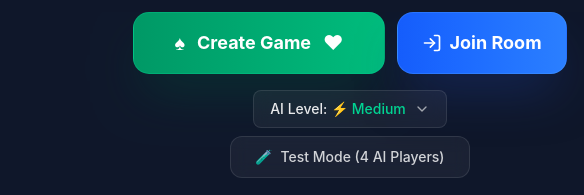
it: CreateGameSection Component › Join Room Functionality › closes input when Escape key is pressed
The width and height of the screenshot is (584, 195).
Click the button "Join Room" at (482, 43), box [397, 12, 567, 74]
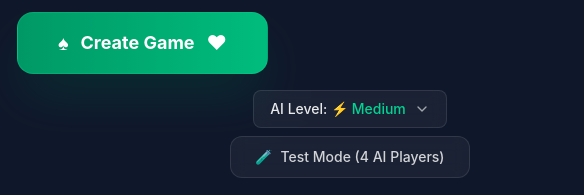
Press Escape in the field with placeholder "Enter room code", box [17, 12, 268, 74]
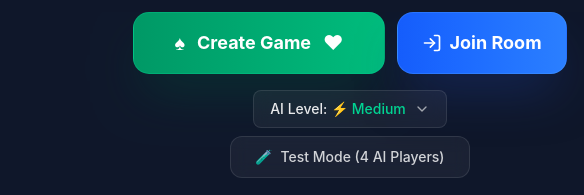
Expected: the button "Join Room" is shown, [397, 12, 567, 74]
